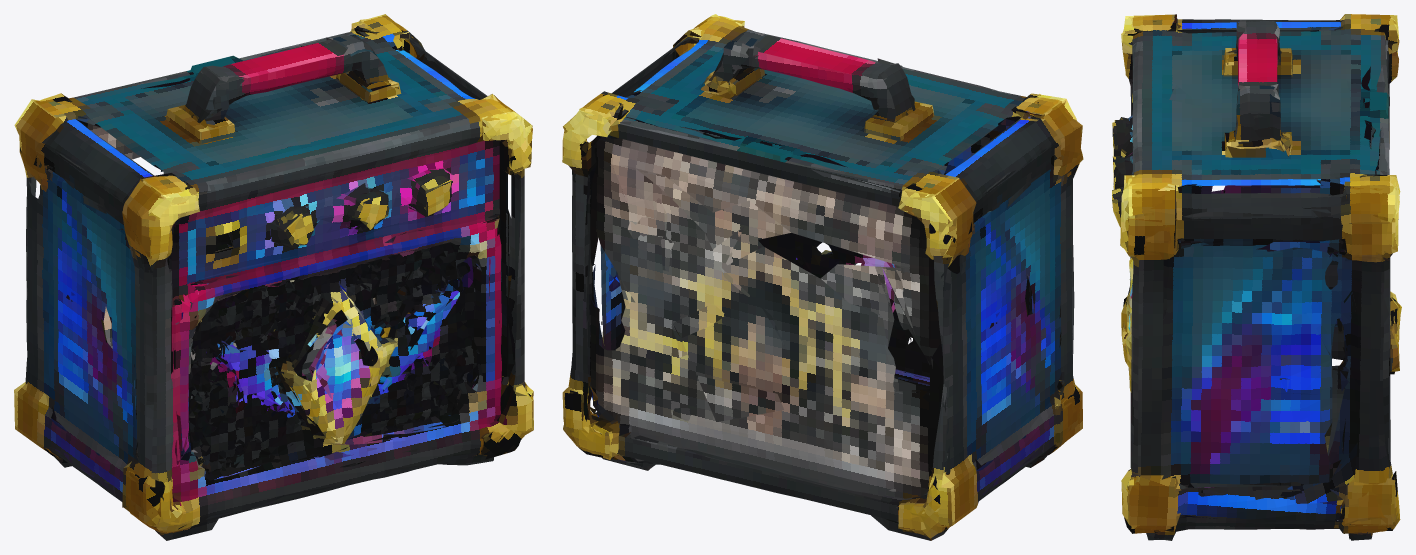
File: ArcadeAmplifierPickup_Charged_QuadRetro.glb
3 renders of one model, left to right at view 1: azimuth 30°, elevation 25°; view 2: azimuth 150°, elevation 25°; view 3: azimuth 270°, elevation 25°, orthographic.
Visible parts, largest first — view 1: ArcadeAmplifierPickup_Charged_QuadRemesh; view 2: ArcadeAmplifierPickup_Charged_QuadRemesh; view 3: ArcadeAmplifierPickup_Charged_QuadRemesh.
Part boxes in pixels (x1,y1,x2,y2): ArcadeAmplifierPickup_Charged_QuadRemesh: (14,14,533,540); ArcadeAmplifierPickup_Charged_QuadRemesh: (562,14,1083,540); ArcadeAmplifierPickup_Charged_QuadRemesh: (1112,14,1401,540).
Bounding box in the file's own units: 2.01 × 2 × 1.28.
1 material, 1 textured.
